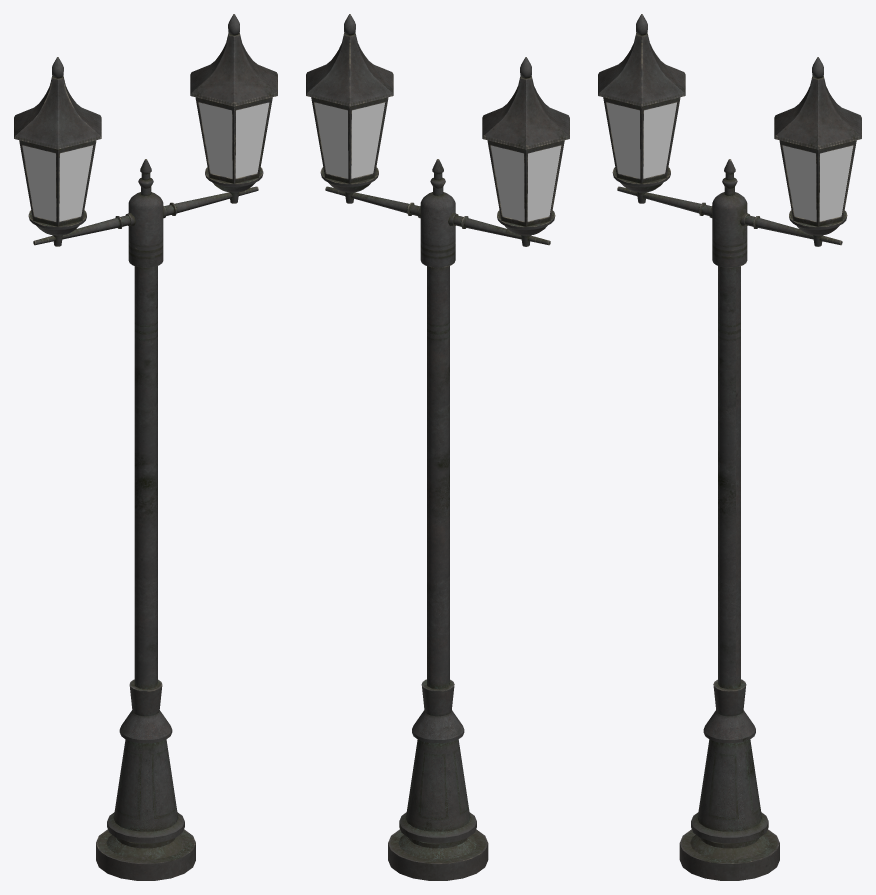
File: SM_street_lamp_01.fbx
3 renders of one model, left to right at view 1: azimuth 30°, elevation 25°; view 2: azimuth 150°, elevation 25°; view 3: azimuth 330°, elevation 25°, orthographic.
Visible parts, largest first — view 1: SM_street_lamp_01_LOD0; view 2: SM_street_lamp_01_LOD0; view 3: SM_street_lamp_01_LOD0.
Boxes of the visible parts, x1,y1,x2,y2 form: SM_street_lamp_01_LOD0: [14, 14, 277, 880]; SM_street_lamp_01_LOD0: [306, 14, 569, 880]; SM_street_lamp_01_LOD0: [598, 14, 861, 880].
Size of the model in its own units: 115 by 37.9 by 344.
3 materials, 1 textured.
